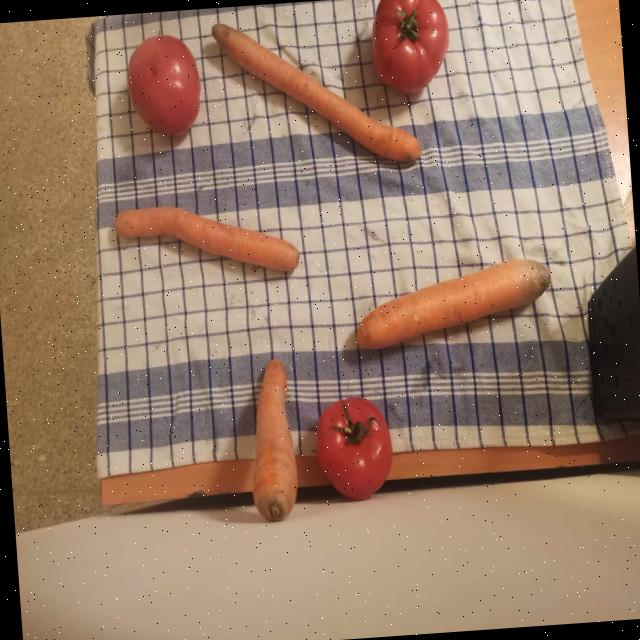carrot: (211, 21, 420, 161), (355, 257, 549, 347), (113, 205, 298, 269), (251, 358, 296, 521)
tomato: (315, 396, 391, 498), (125, 33, 198, 134), (370, 0, 448, 92)
